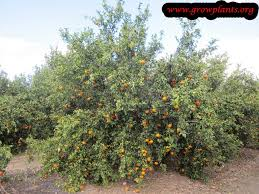orange: (155, 133, 160, 140), (167, 123, 173, 128)
